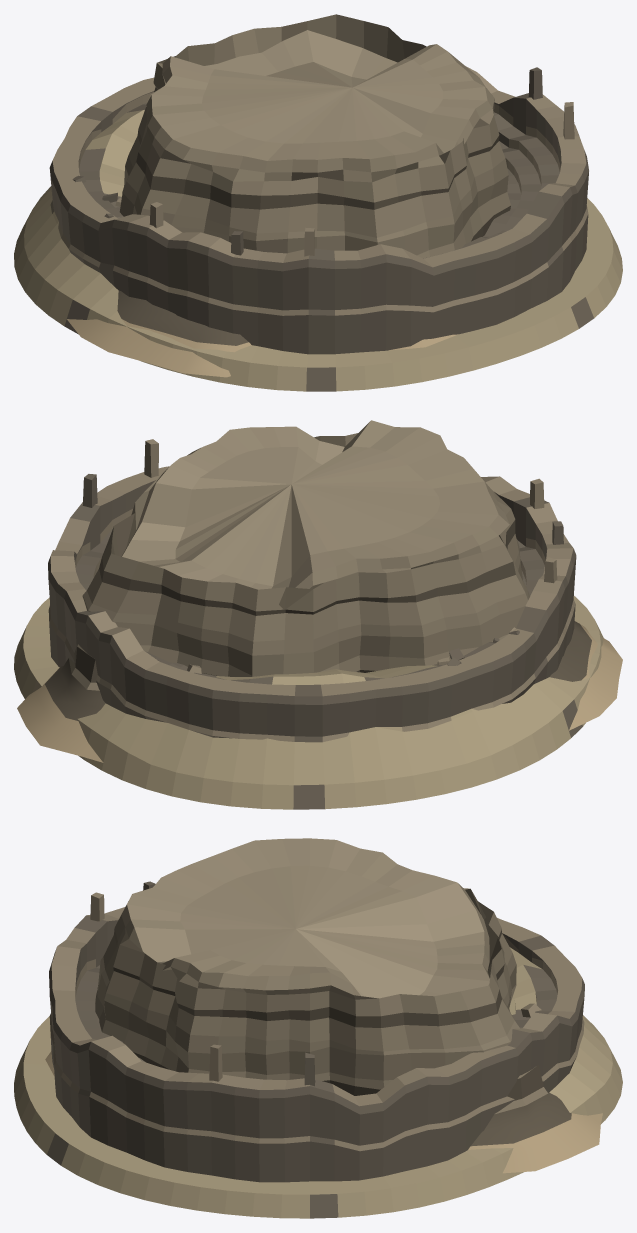
File: kaki-raid-environment-kit-v1.glb
3 views of the same model, one above another, from view 1: azimuth 30°, elevation 25°; view 2: azimuth 150°, elevation 25°; view 3: azimuth 270°, elevation 25° (orthographic). The views are drawn at different scales.
Parts seen in each view (by area): view 1: RaidAmphitheatre-0-body, RaidMesa-0-body; view 2: RaidMesa-0-body, RaidAmphitheatre-0-body; view 3: RaidMesa-0-body, RaidAmphitheatre-0-body.
Part boxes in pixels (<box>): RaidAmphitheatre-0-body: <box>14,66,622,391</box>; RaidMesa-0-body: <box>67,14,510,377</box>; RaidMesa-0-body: <box>17,420,622,762</box>; RaidAmphitheatre-0-body: <box>14,439,603,809</box>; RaidMesa-0-body: <box>45,838,602,1173</box>; RaidAmphitheatre-0-body: <box>14,881,622,1218</box>.
Size of the model in its own units: 71.76 by 24 by 72.73.
